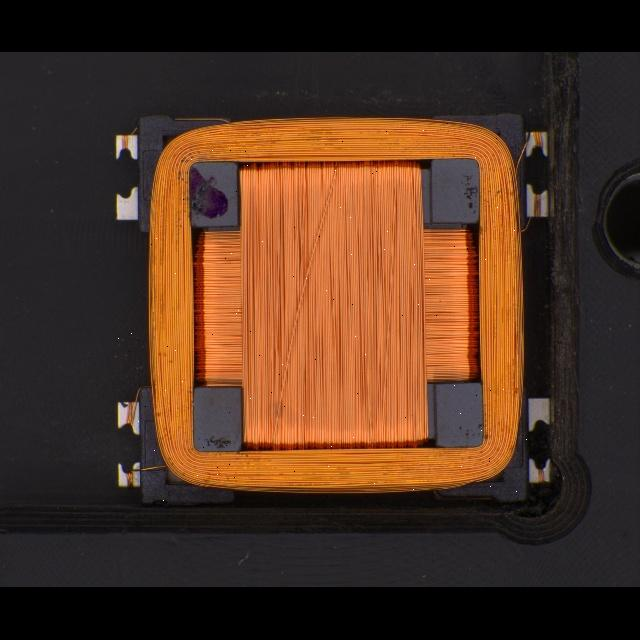Winding_Z: (116, 113, 528, 503)
